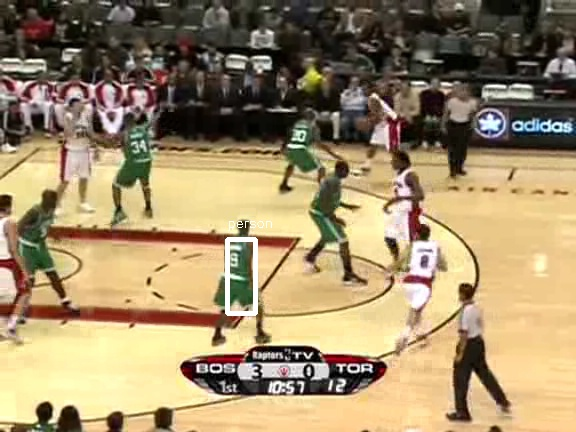person: (224, 234, 258, 315), (223, 234, 257, 315), (225, 234, 259, 315), (224, 233, 258, 314), (224, 235, 258, 316)
target_negative: (101, 374, 383, 427), (473, 206, 548, 324), (410, 354, 512, 429), (568, 179, 576, 402), (352, 358, 372, 415)
